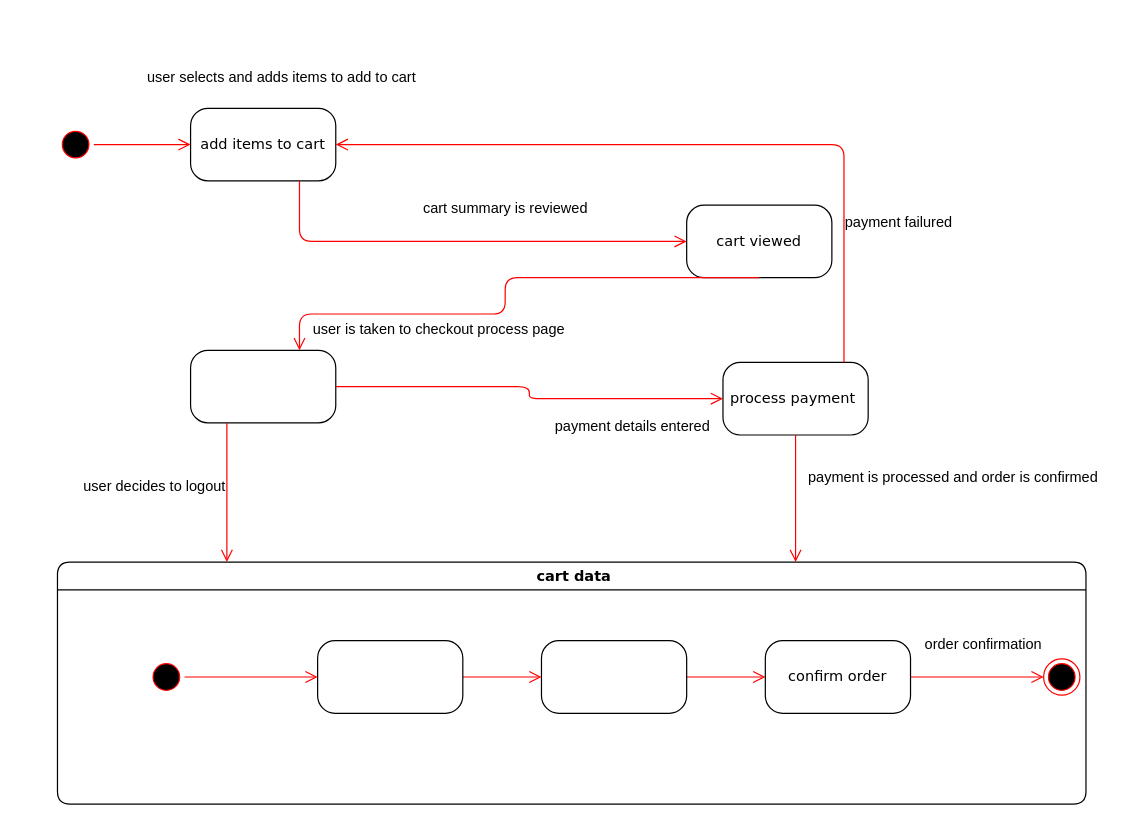
This 1130x825 diagram has some shape labels left out. Each missing label, with the centre of its shape:
"cart information is loaded" belongs at point 613,676.
"checkout starts" belongs at point 262,386.
"information of cart saved" belongs at point 389,676.
